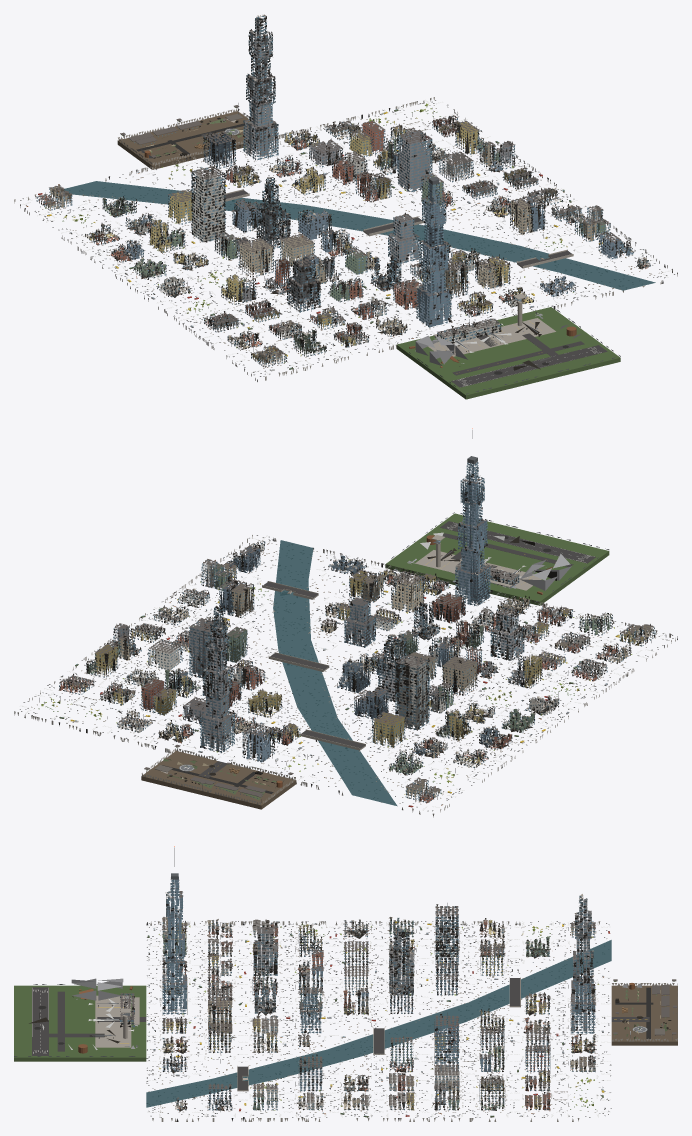
Rendered from map_city.glb.
3 renders of one model, top to bottom at view 1: azimuth 30°, elevation 25°; view 2: azimuth 150°, elevation 25°; view 3: azimuth 270°, elevation 25°, orthographic. The views are drawn at different scales.
Visible parts, largest first — view 1: Tile; view 2: Tile; view 3: Tile.
Boxes of the visible parts, left/top/right/bottom form: Tile: left=14, top=14, right=677, bottom=399; Tile: left=14, top=428, right=677, bottom=817; Tile: left=14, top=846, right=677, bottom=1121.
Bounding box in the file's own units: 492 × 197 × 702.
